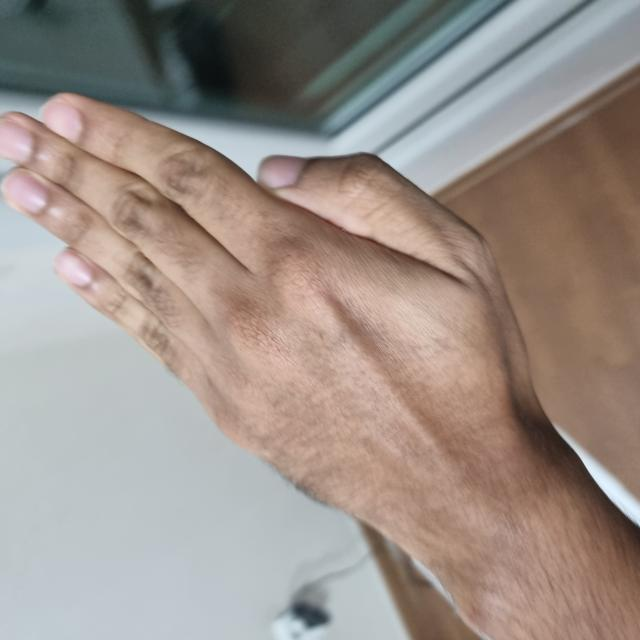Paper: (97, 1, 548, 525)
